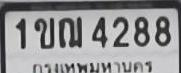1: (15, 17, 25, 48)
2: (112, 16, 128, 46)
4: (91, 16, 106, 47)
8: (154, 15, 170, 46), (133, 16, 149, 46)
A02: (33, 17, 54, 48)
A12: (58, 16, 82, 47)
BKK: (30, 57, 154, 73)
